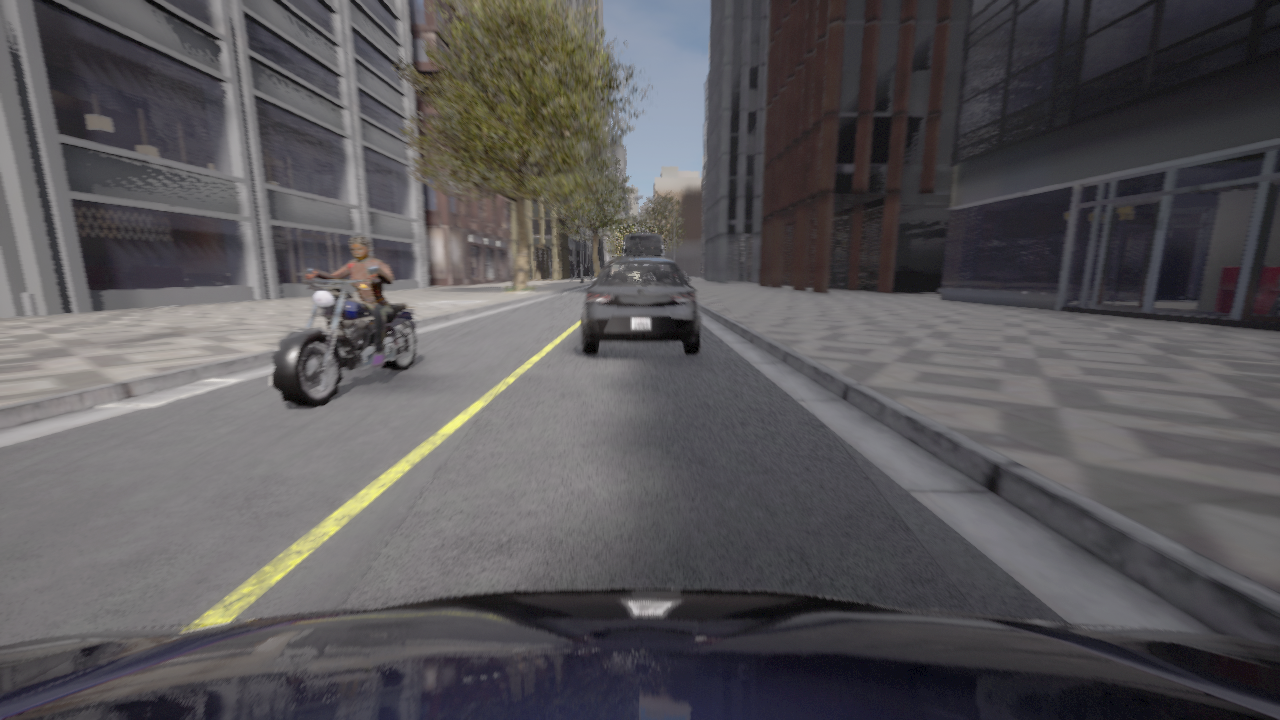cyclist: (0, 588, 1279, 719), (271, 266, 418, 407), (581, 257, 700, 355), (621, 233, 663, 257)
